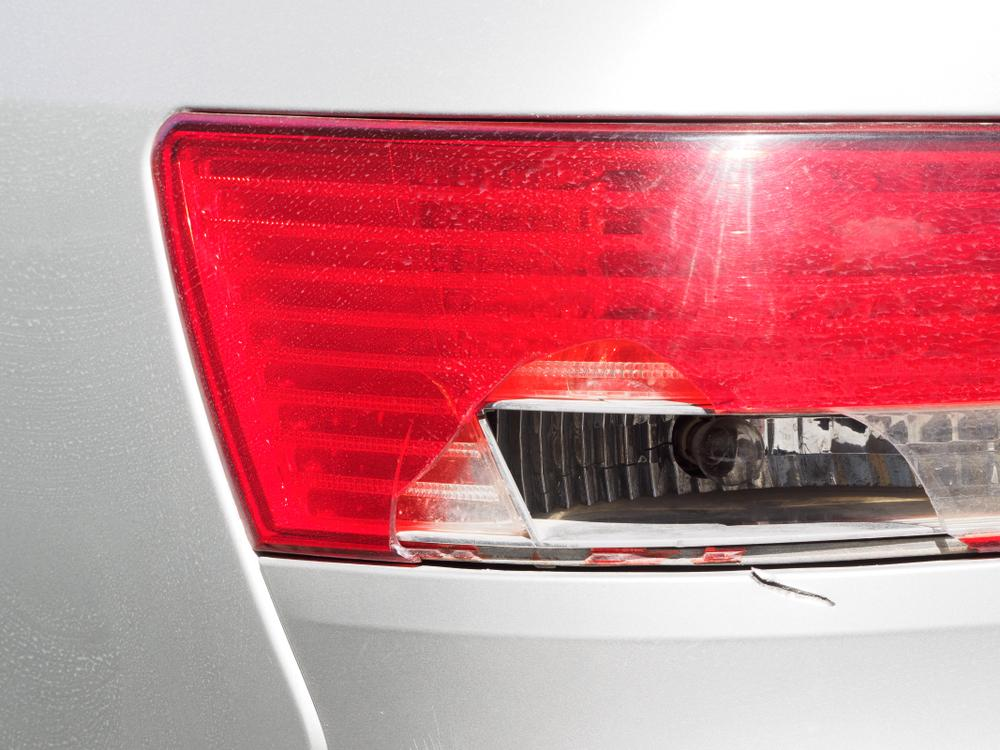crack: (751, 571, 837, 608)
lamp broken: (152, 110, 1000, 571)
